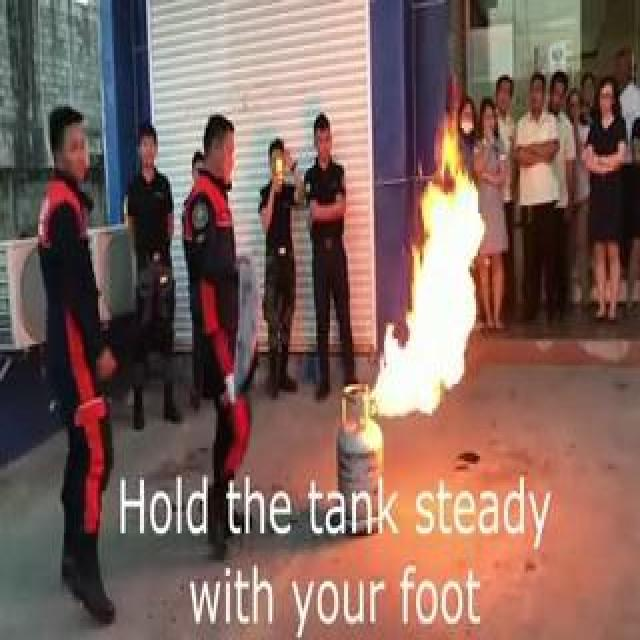Fire: (370, 123, 504, 416)
